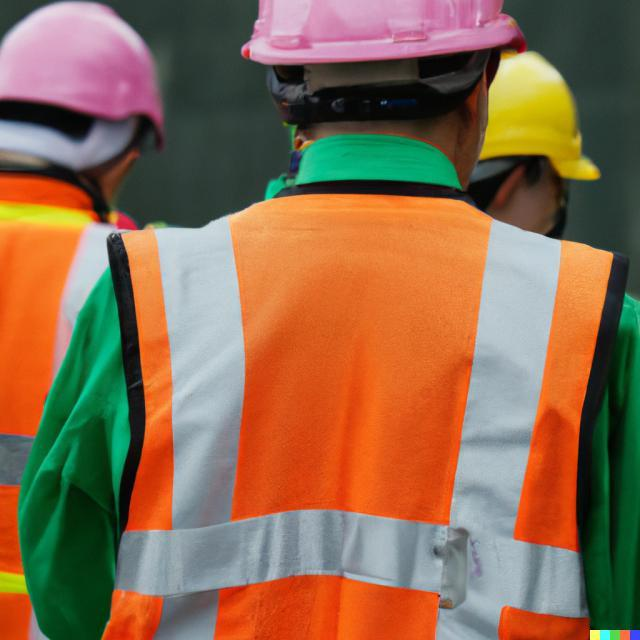reflective_jacket: (42, 188, 633, 633), (0, 165, 145, 639)
safety_helmet: (0, 0, 171, 135), (239, 0, 534, 67), (467, 49, 600, 183)
